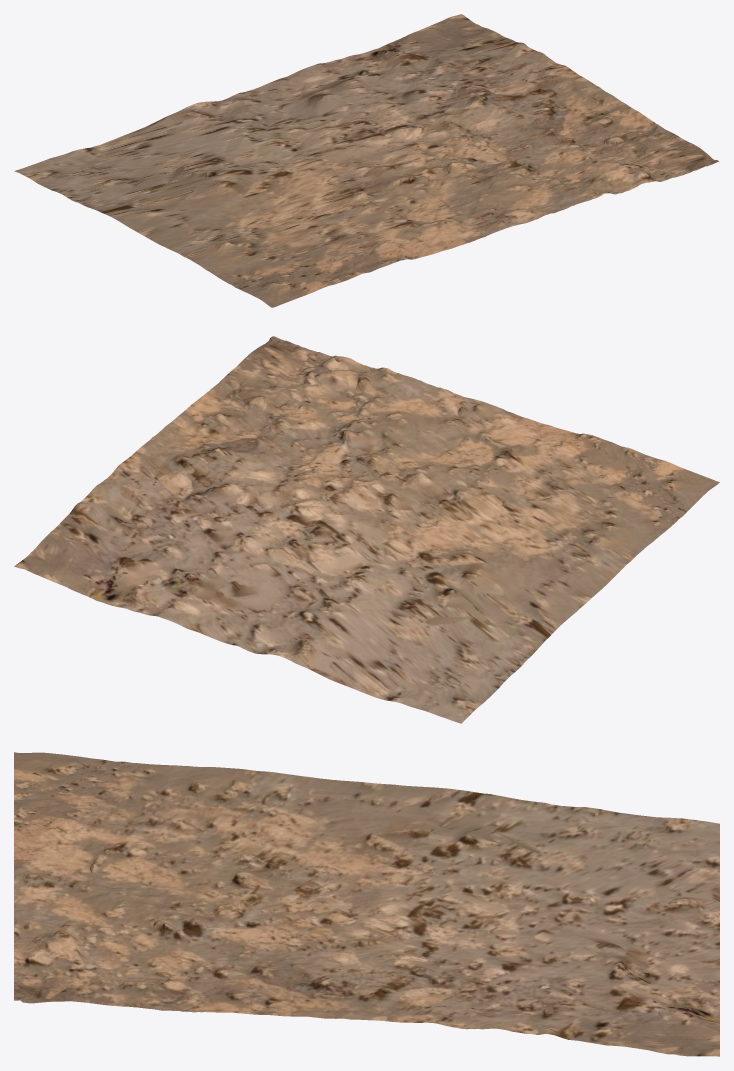
The picture shows the model from 3 angles, top to bottom: view 1: azimuth 30°, elevation 25°; view 2: azimuth 150°, elevation 25°; view 3: azimuth 270°, elevation 25°; orthographic projection. The views are drawn at different scales.
Bounding box in the file's own units: 8.36 × 1.6 × 8.36.
2 materials, 2 textured.
